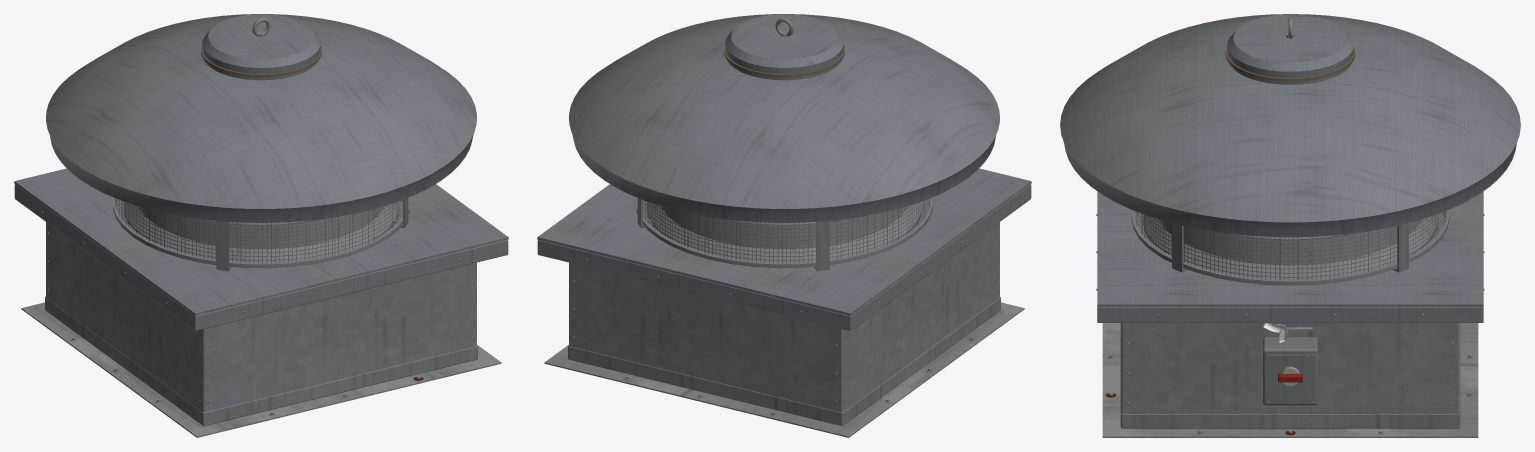
The model's file is mushroom_vent.glb.
3 views of the same model, side by side, from view 1: azimuth 30°, elevation 25°; view 2: azimuth 150°, elevation 25°; view 3: azimuth 270°, elevation 25° (orthographic). The views are drawn at different scales.
Parts seen in each view (by area): view 1: hood_aluminium_spun_0, base_aluminium_spun_0, curb_steel_galvanised_1, curb_steel_galvanised_old_0, mesh_wire_mesh_0, mesh_steel_galvanised_1, hood_aluminium_greasy_2; view 2: hood_aluminium_spun_0, base_aluminium_spun_0, curb_steel_galvanised_1, curb_steel_galvanised_old_0, mesh_wire_mesh_0, mesh_steel_galvanised_1, hood_aluminium_greasy_2; view 3: hood_aluminium_spun_0, base_aluminium_spun_0, curb_steel_galvanised_1, curb_steel_galvanised_old_0, mesh_wire_mesh_0, isolator_powder_grey_1, mesh_steel_galvanised_1, hood_aluminium_greasy_2.
Boxes of the visible parts, left/top/right/bottom form: hood_aluminium_spun_0: left=46, top=14, right=476, bottom=222; base_aluminium_spun_0: left=14, top=168, right=508, bottom=330; curb_steel_galvanised_1: left=46, top=222, right=476, bottom=412; curb_steel_galvanised_old_0: left=21, top=232, right=501, bottom=437; mesh_wire_mesh_0: left=115, top=198, right=402, bottom=263; mesh_steel_galvanised_1: left=113, top=197, right=409, bottom=268; hood_aluminium_greasy_2: left=201, top=44, right=321, bottom=77; hood_aluminium_spun_0: left=569, top=14, right=999, bottom=222; base_aluminium_spun_0: left=537, top=168, right=1031, bottom=330; curb_steel_galvanised_1: left=569, top=222, right=999, bottom=412; curb_steel_galvanised_old_0: left=544, top=232, right=1024, bottom=437; mesh_wire_mesh_0: left=643, top=198, right=930, bottom=263; mesh_steel_galvanised_1: left=636, top=197, right=932, bottom=268; hood_aluminium_greasy_2: left=724, top=44, right=844, bottom=77; hood_aluminium_spun_0: left=1060, top=14, right=1520, bottom=237; base_aluminium_spun_0: left=1097, top=191, right=1483, bottom=322; curb_steel_galvanised_1: left=1121, top=323, right=1459, bottom=413; curb_steel_galvanised_old_0: left=1102, top=323, right=1478, bottom=437; mesh_wire_mesh_0: left=1134, top=210, right=1446, bottom=280; isolator_powder_grey_1: left=1263, top=337, right=1317, bottom=405; mesh_steel_galvanised_1: left=1131, top=210, right=1449, bottom=285; hood_aluminium_greasy_2: left=1225, top=47, right=1355, bottom=81.
Size of what is drawn, in the model's own units: 1.25 by 1.02 by 1.25.
Materials: 12 (12 with a texture image).
